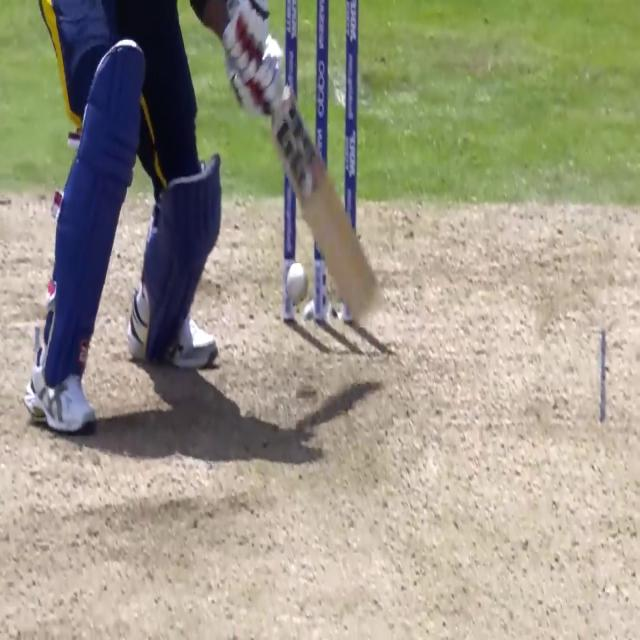ball: (286, 260, 308, 302)
